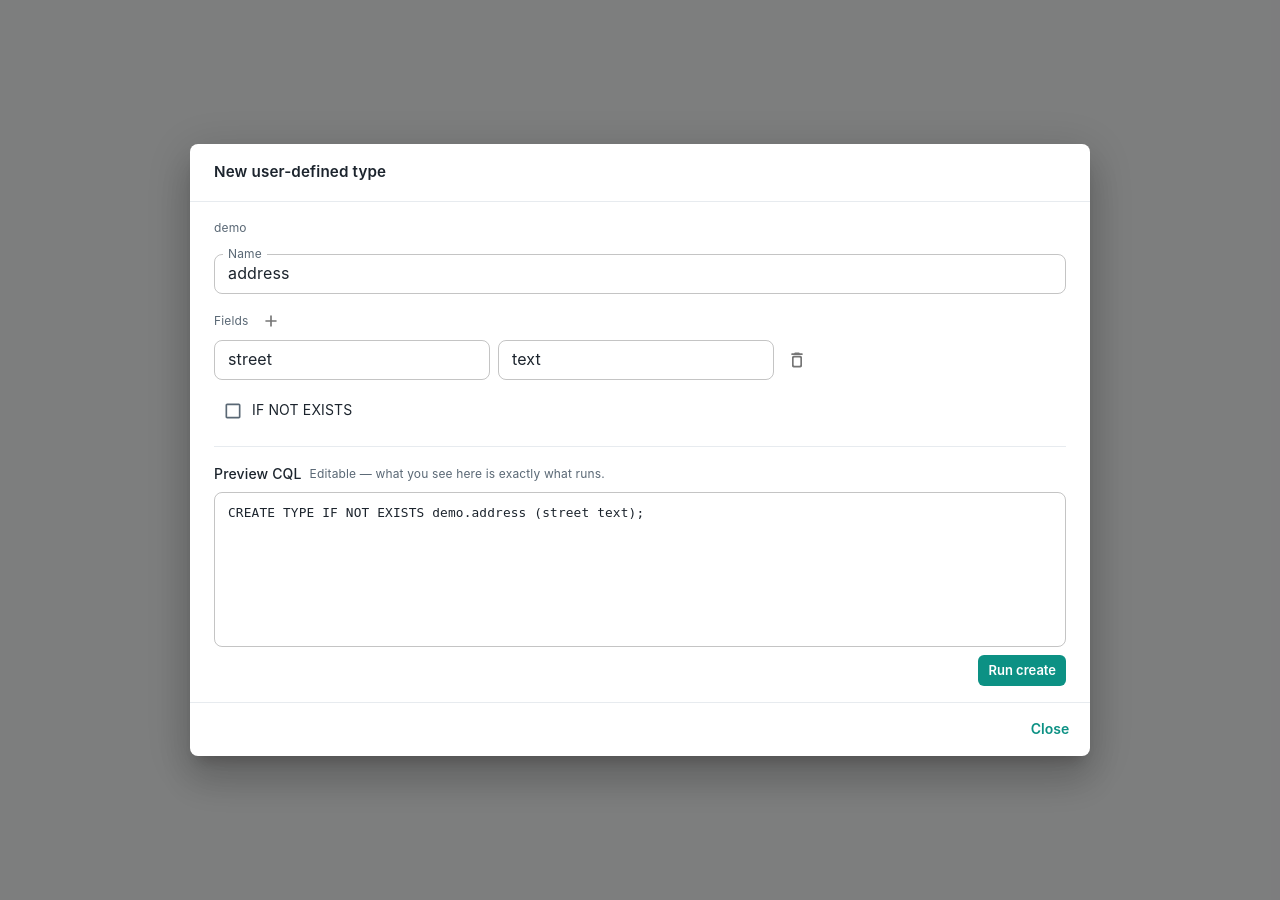
Test: DdlEditorDialog › generates a preview from the form and executes exactly that CQL
This screenshot has width=1280, height=900.
Expected: the text box with test id "cql-preview" holds "CREATE TYPE IF NOT EXISTS demo.address (street text);", [228,501,1052,639]
Click the button with test id "cql-execute" at (1022, 671), box [978,656,1066,686]
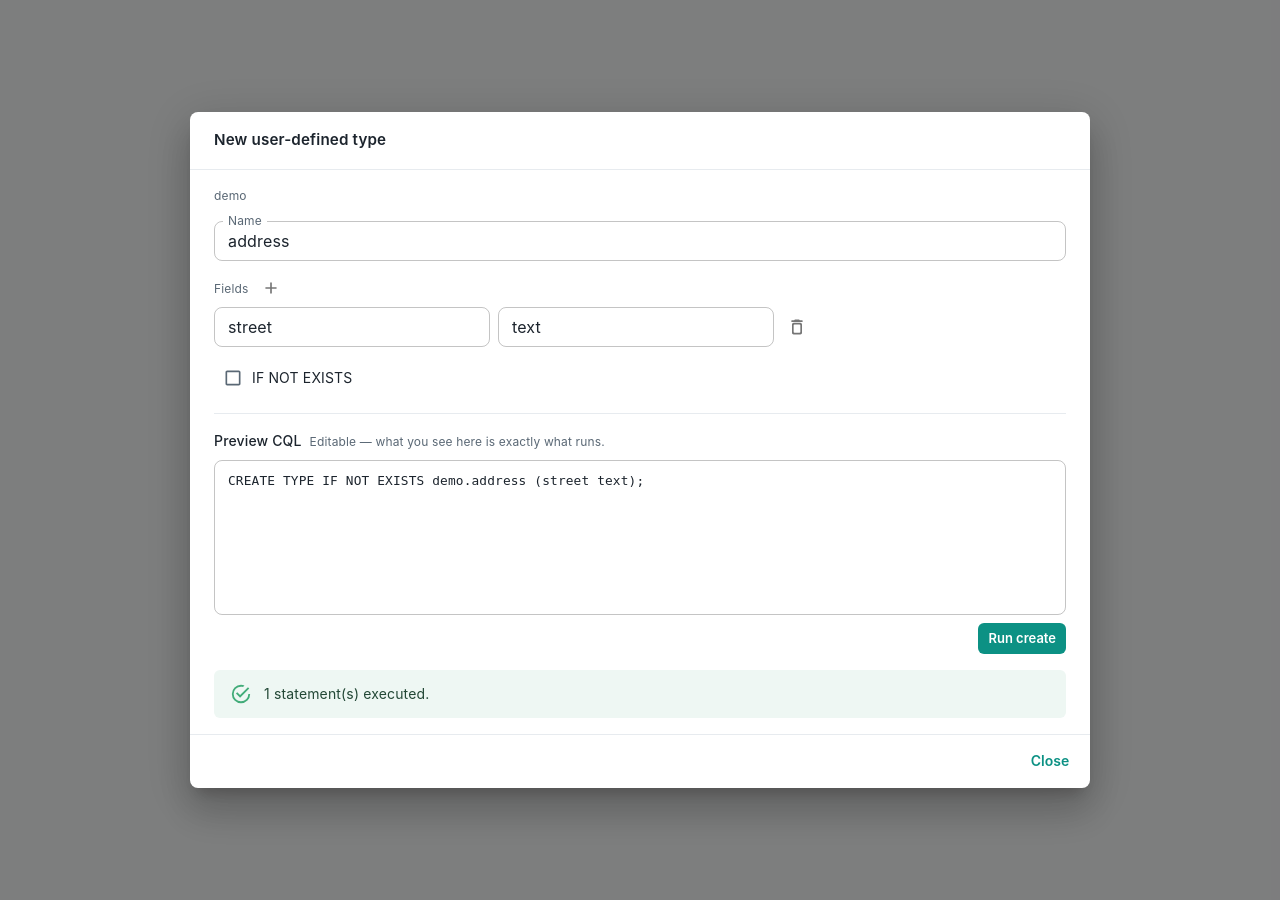
Now the message "1 statement(s) executed." is shown, box [214,670,1066,718]
